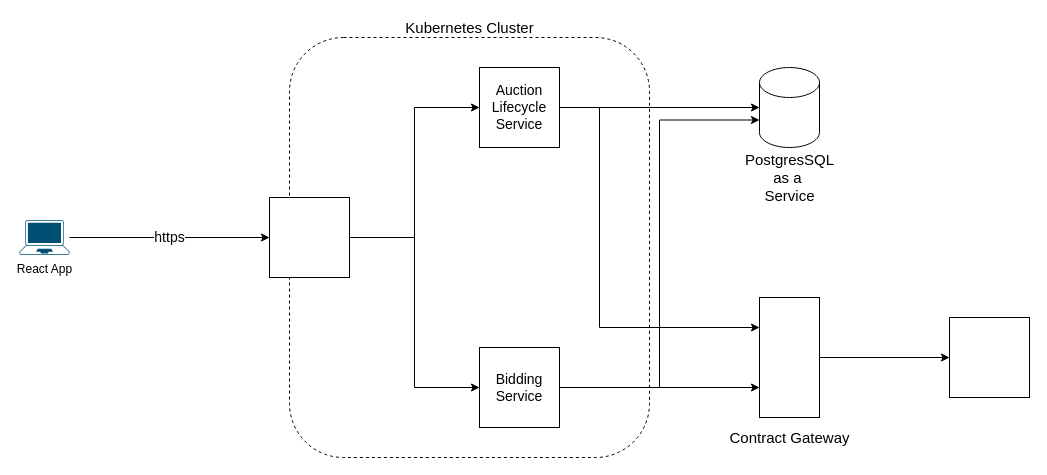
Image size: 1047x475. Some labels were removed from this diagram. The shapes that lost their labels are listed below. From the top down, each one's centre as x and y in pixels, then its label:
At (309,237): "Ingress".
At (989,357): "Smart Contract".
